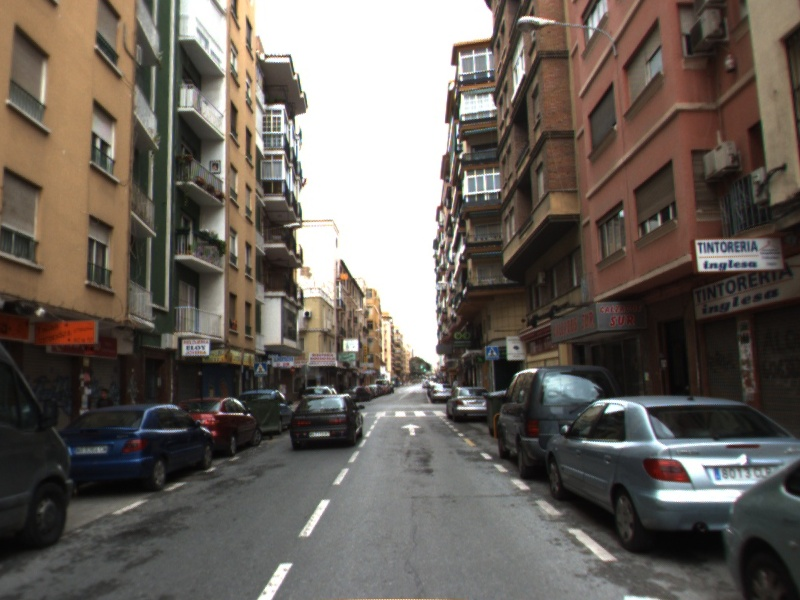STRAIGHT: (399, 421, 424, 437)
